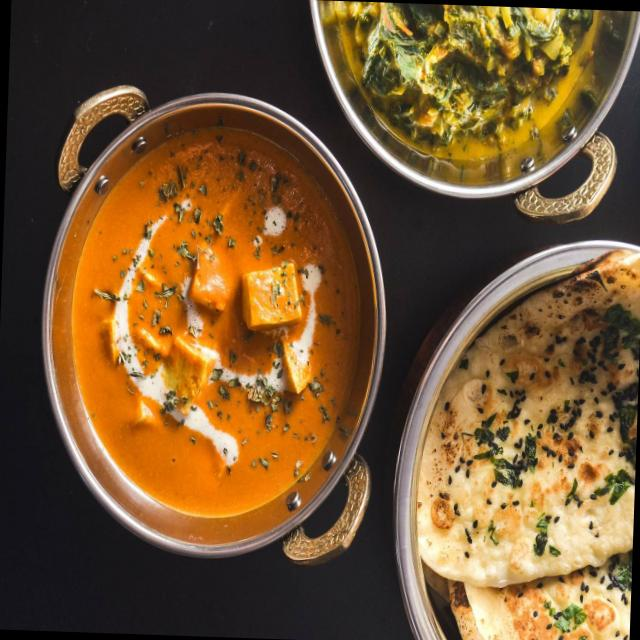ShahiPaneer: (62, 112, 374, 516)
